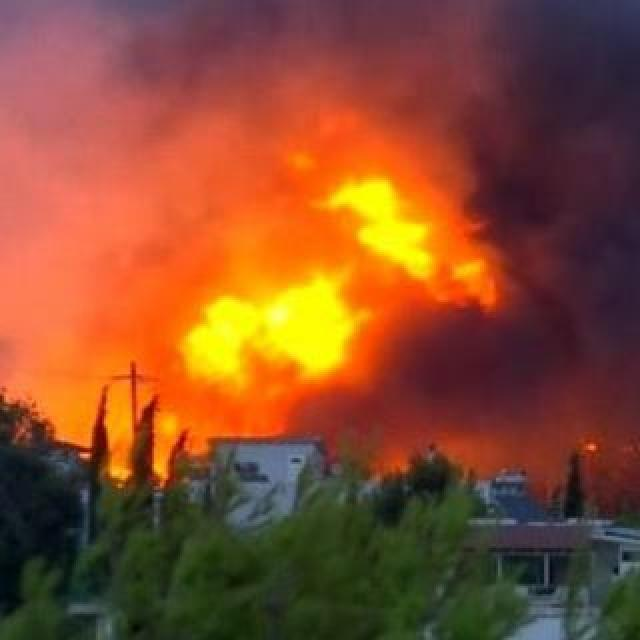Smoke: (14, 0, 636, 472)
